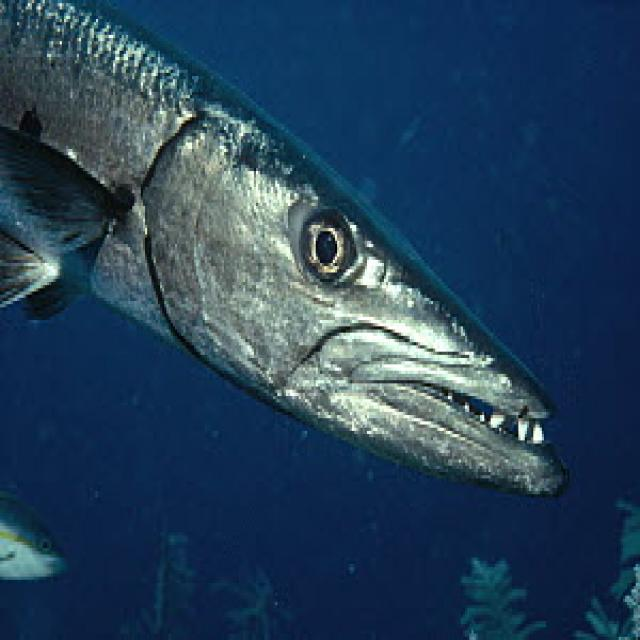Barracuda: (2, 3, 570, 504)
